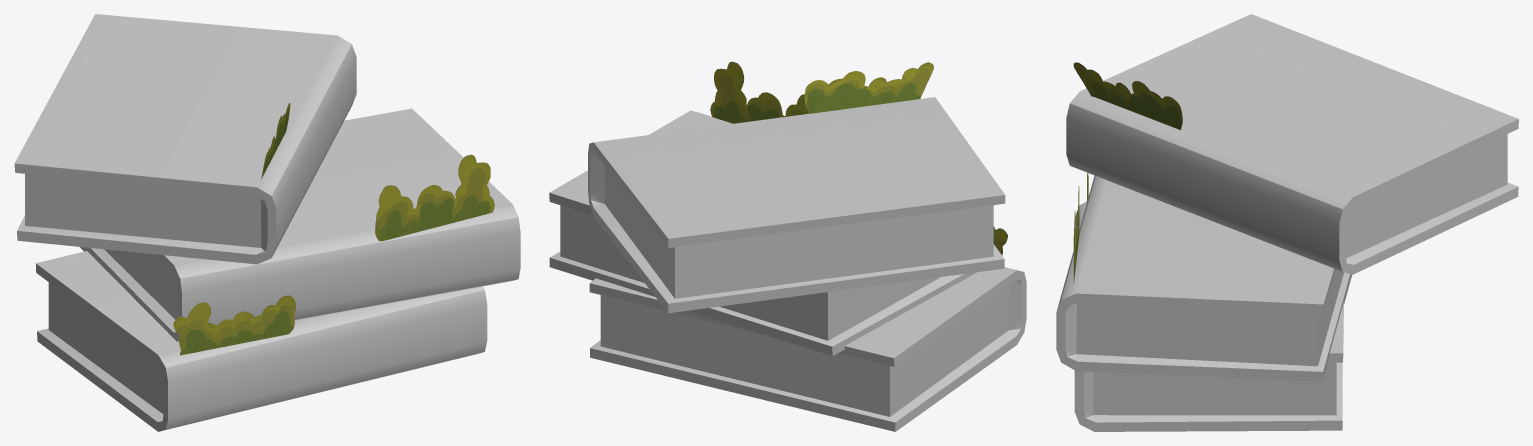
Rendered from Libri_erba_Con_texture.fbx.
3 views of the same model, side by side, from view 1: azimuth 30°, elevation 25°; view 2: azimuth 150°, elevation 25°; view 3: azimuth 270°, elevation 25° (orthographic). The views are drawn at different scales.
Visible parts, largest first — view 1: pCube7, pCube6, pCube1, pPlane5, pPlane6; view 2: pCube7, pCube1, pCube6, pPlane6, pPlane5; view 3: pCube7, pCube6, pCube1, pPlane6.
Part boxes in pixels (x1,y1,x2,y2): pCube7: (14,14,356,264); pCube6: (80,108,520,341); pCube1: (36,251,487,431); pPlane5: (173,154,494,355); pPlane6: (261,103,290,179); pCube7: (588,97,1005,313); pCube1: (589,267,1026,431); pCube6: (549,110,976,355); pPlane6: (804,62,933,113); pPlane5: (710,61,1007,255); pCube7: (1066,14,1518,274); pCube6: (1056,175,1351,381); pCube1: (1074,202,1343,431); pPlane6: (1073,62,1182,130).
Size of the model in its own units: 7.54 by 5.15 by 6.95.
